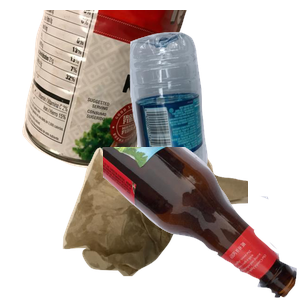glass: (103, 147, 300, 300)
metal: (20, 10, 199, 172)
plastic: (127, 29, 300, 209)
trash: (60, 142, 300, 300)
